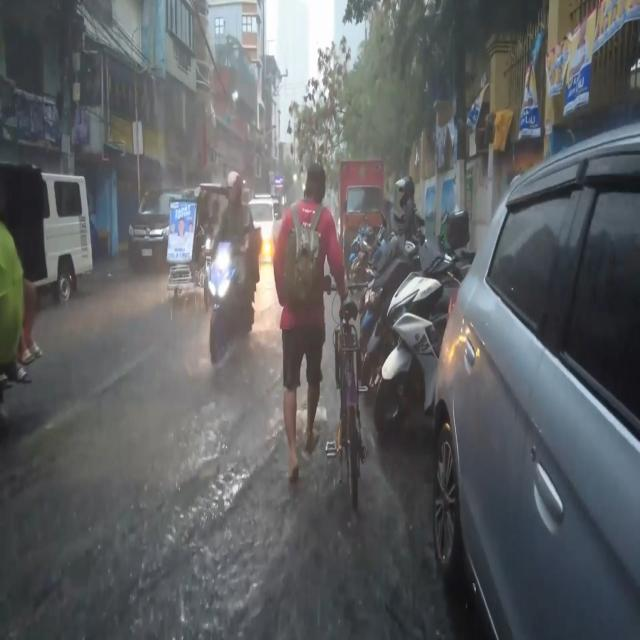full: (396, 177, 416, 208)
half: (226, 171, 242, 206)
